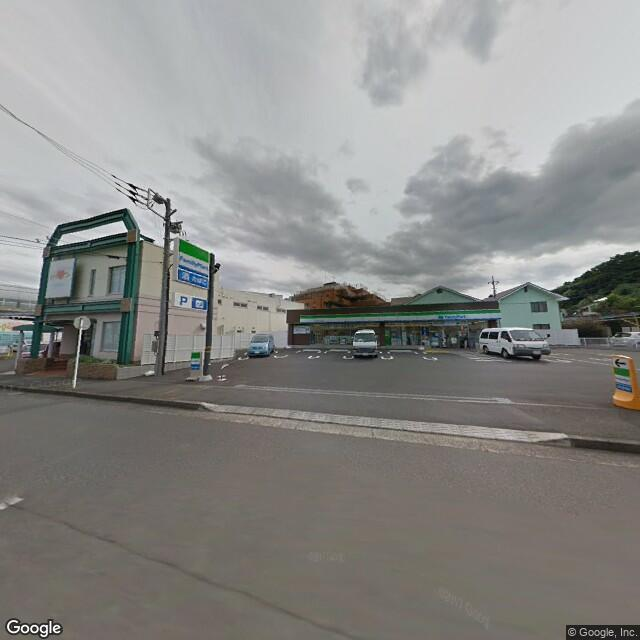family_mart: (299, 306, 504, 329), (177, 236, 210, 291), (187, 350, 203, 376)
